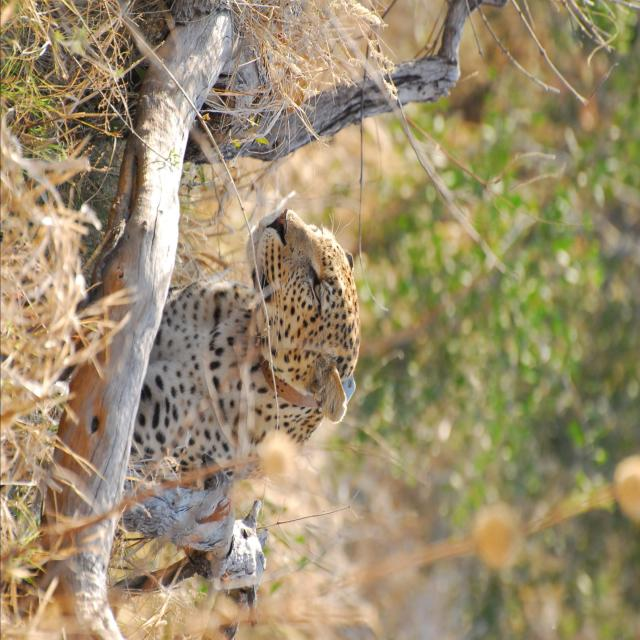Leopard: (150, 200, 519, 640)
